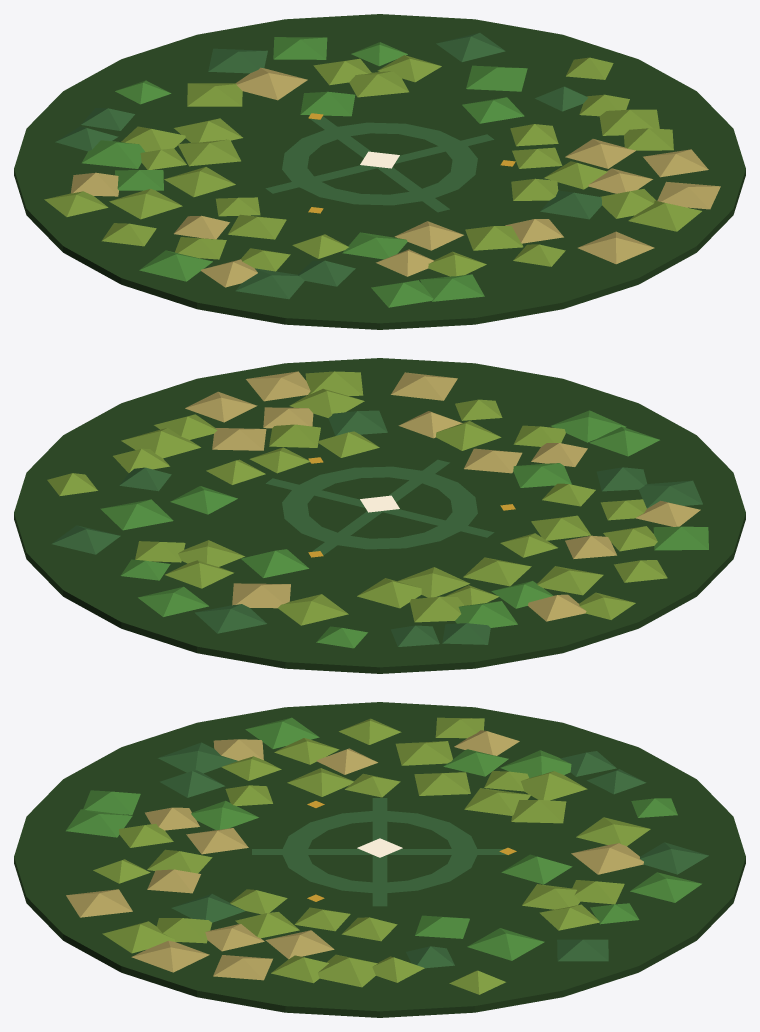
File: sniper_legend_area.glb
The picture shows the model from 3 angles, top to bottom: view 1: azimuth 30°, elevation 25°; view 2: azimuth 150°, elevation 25°; view 3: azimuth 270°, elevation 25°; orthographic projection.
Visible parts, largest first — view 1: sniper_legend_area; view 2: sniper_legend_area; view 3: sniper_legend_area.
Boxes of the visible parts, x1,y1,x2,y2 form: sniper_legend_area: (14, 14, 745, 329); sniper_legend_area: (14, 358, 745, 673); sniper_legend_area: (14, 702, 745, 1017).
Bounding box in the file's own units: 2 × 0.0597 × 2.
Materials: 2 (2 with a texture image).
